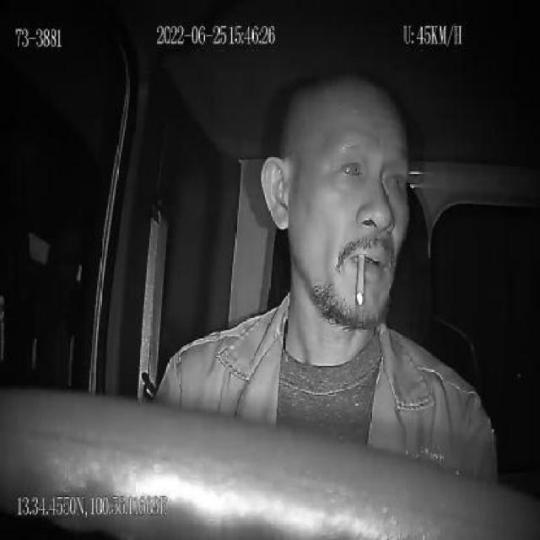smoking: (355, 253, 366, 306)
